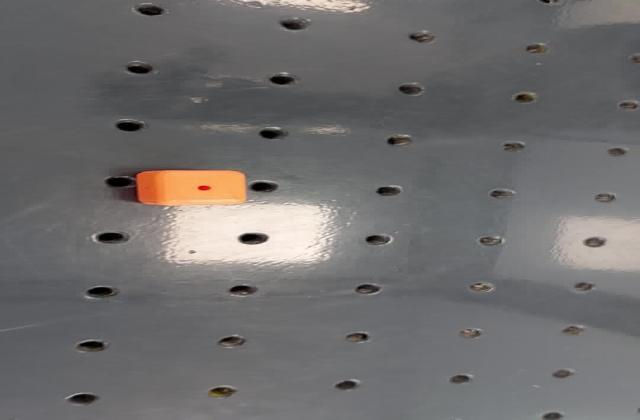cube: (130, 168, 255, 208)
